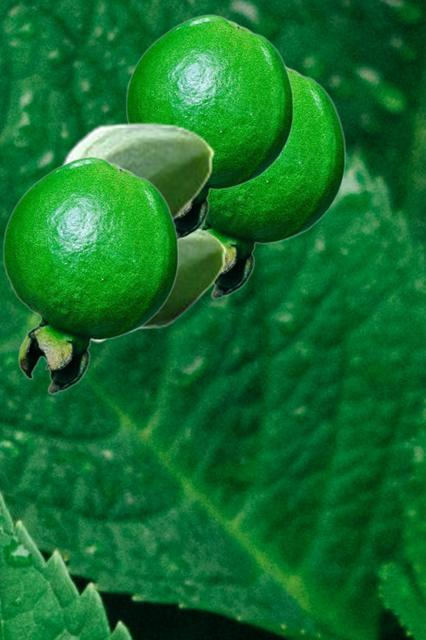guava: (2, 156, 178, 393), (125, 14, 293, 240), (202, 66, 345, 298), (56, 121, 214, 223), (92, 226, 226, 342)
